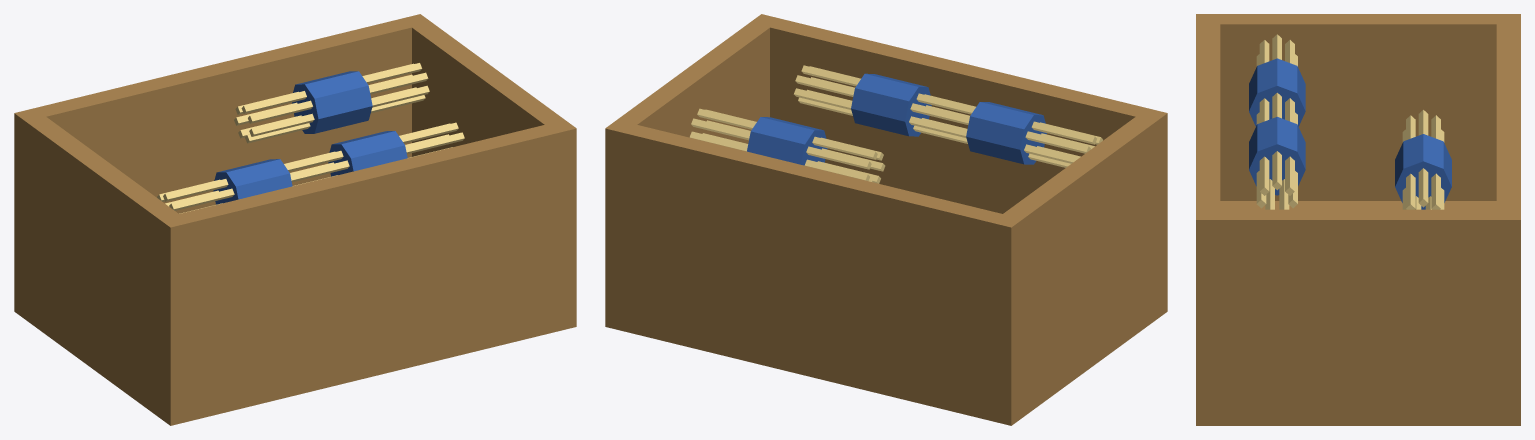
The model's file is kitchen_crate_pasta.glb.
The picture shows the model from 3 angles, left to right: view 1: azimuth 30°, elevation 25°; view 2: azimuth 150°, elevation 25°; view 3: azimuth 270°, elevation 25°; orthographic projection. The views are drawn at different scales.
Visible parts, largest first — view 1: crate_crate_wood, pasta_food_pasta, pasta_food_pasta_paper (×3); view 2: crate_crate_wood, pasta_food_pasta, pasta_food_pasta_paper (×3); view 3: crate_crate_wood, pasta_food_pasta_paper (×3), pasta_food_pasta.
Boxes of the visible parts, x1,y1,x2,y2 form: crate_crate_wood: (14, 14, 576, 425); pasta_food_pasta: (157, 63, 464, 213); pasta_food_pasta_paper (×3): (213, 71, 407, 204); crate_crate_wood: (605, 14, 1167, 425); pasta_food_pasta: (689, 65, 1102, 183); pasta_food_pasta_paper (×3): (747, 73, 1046, 165); crate_crate_wood: (1196, 14, 1520, 425); pasta_food_pasta_paper (×3): (1249, 58, 1451, 209); pasta_food_pasta: (1256, 34, 1444, 209).
Size of the model in its own units: 0.6 by 0.285 by 0.4.
